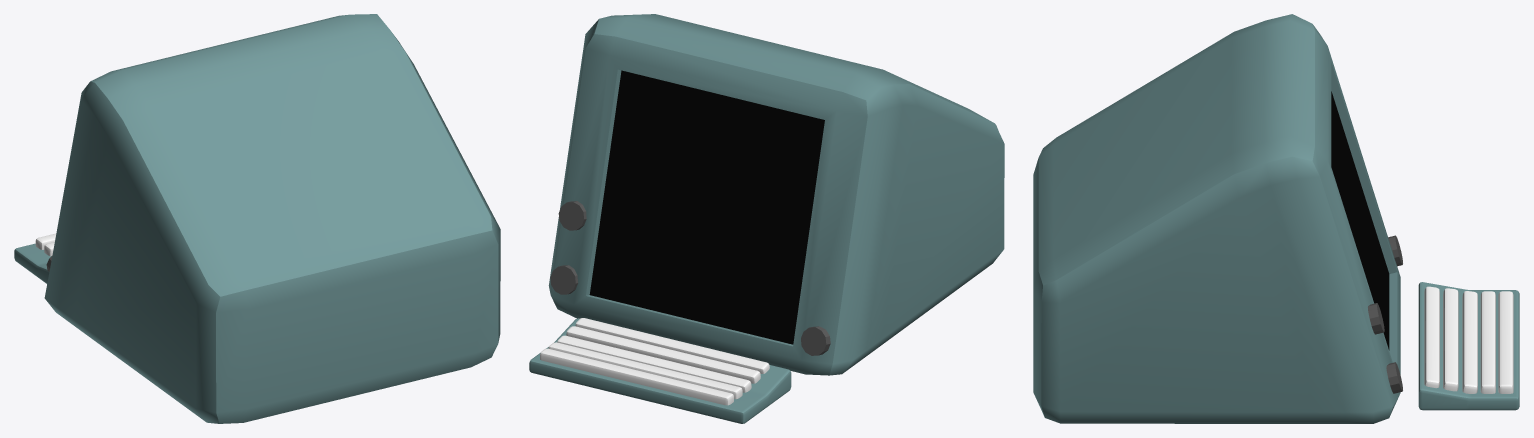
Rendered from Pc_Real.fbx.
3 views of the same model, side by side, from view 1: azimuth 30°, elevation 25°; view 2: azimuth 150°, elevation 25°; view 3: azimuth 270°, elevation 25° (orthographic). The views are drawn at different scales.
Visible parts, largest first — view 1: Pc_GEO; view 2: Pc_GEO; view 3: Pc_GEO.
Boxes of the visible parts, x1=… form: Pc_GEO: x1=14, y1=14, x2=500, y2=423; Pc_GEO: x1=529, y1=14, x2=1004, y2=423; Pc_GEO: x1=1033, y1=14, x2=1519, y2=423.
Size of the model in its own units: 0.2386 by 0.2036 by 0.3186.
